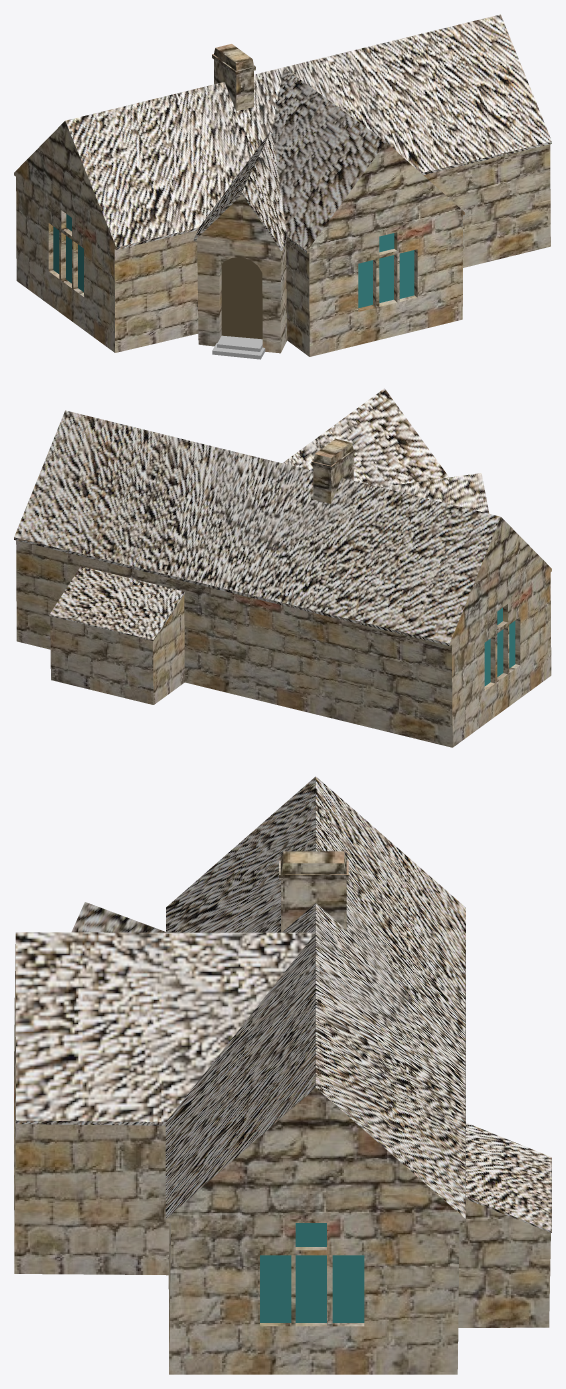
Rendered from Maison1.FBX.
The picture shows the model from 3 angles, top to bottom: view 1: azimuth 30°, elevation 25°; view 2: azimuth 150°, elevation 25°; view 3: azimuth 270°, elevation 25°; orthographic projection. The views are drawn at different scales.
Parts seen in each view (by area): view 1: House; view 2: House; view 3: House.
Part boxes in pixels (box(x1,y1,x2,y2)): House: box(14, 14, 551, 359); House: box(14, 388, 551, 747); House: box(14, 776, 551, 1374).
Size of the model in its own units: 3763 by 1835 by 2743.
